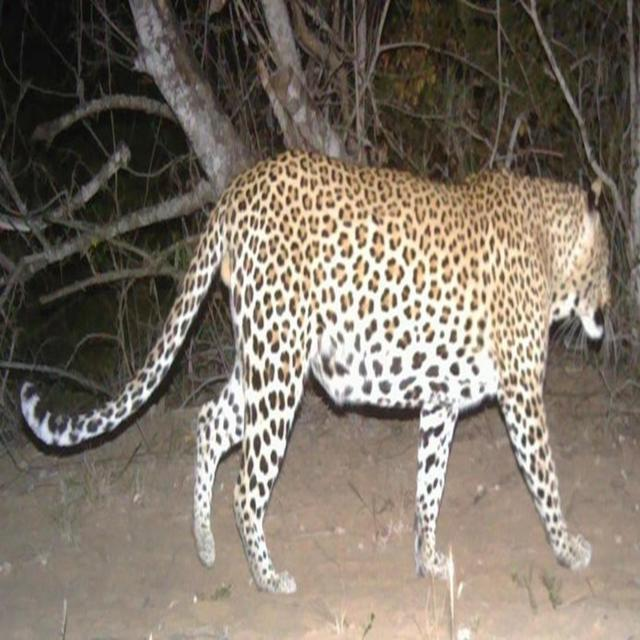Leopard: (23, 153, 621, 611)
